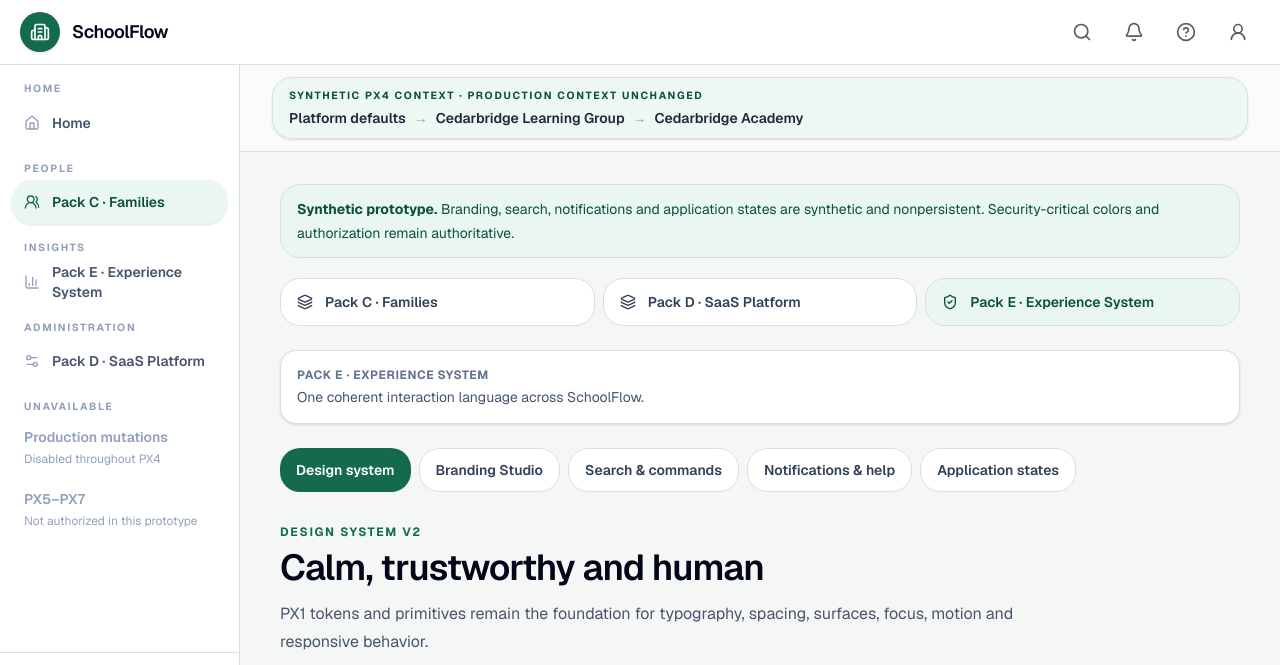
Test: PX4 Prototype Packs C–E › resolves branding inheritance and keeps publish concepts disabled
This screenshot has width=1280, height=665.
Click the button "Branding Studio": click(489, 470) [418,448,560,492]
(page scrolled)
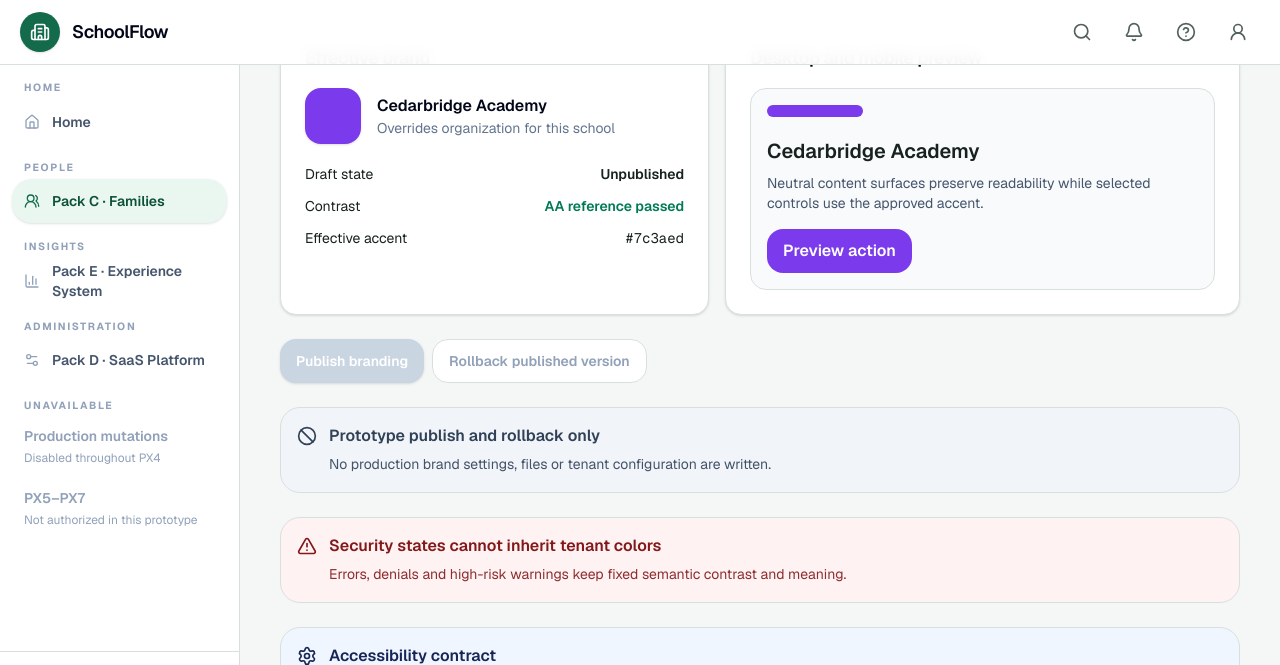
Expected: the button "Publish branding" is disabled, [280,339,424,383]
Expected: the button "Rollback published version" is disabled, [432,339,647,383]
